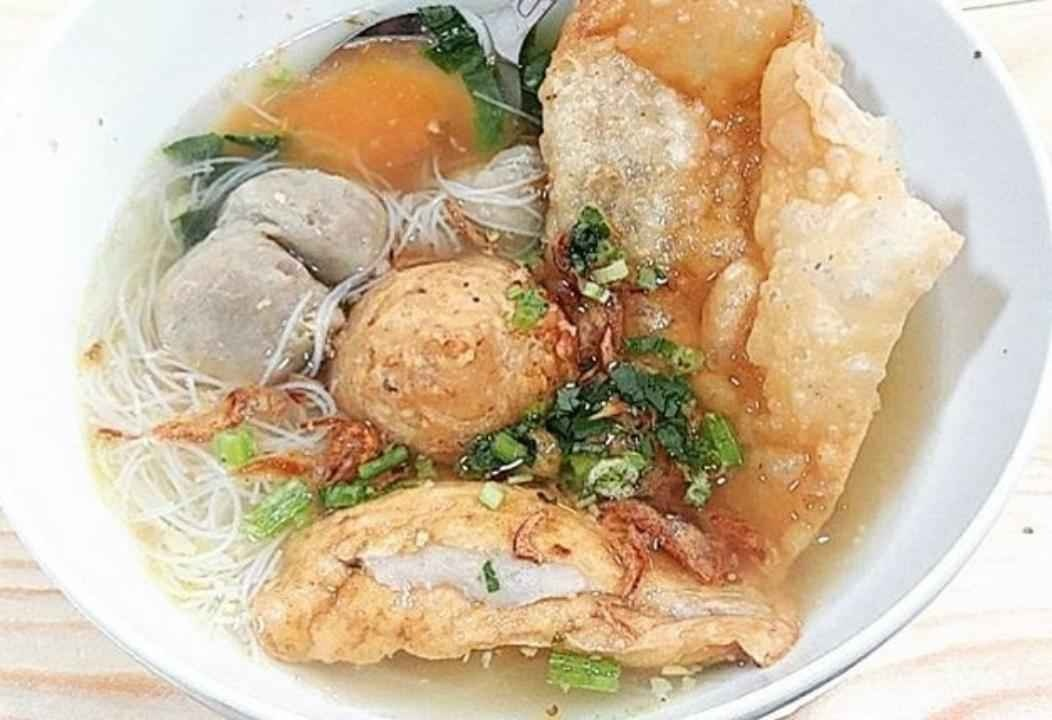bakso_malang: (82, 1, 971, 664)
